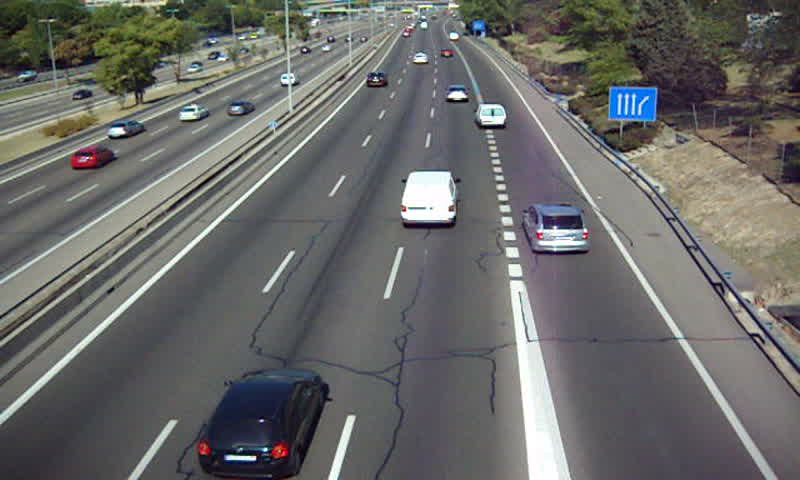car: (198, 369, 330, 477), (522, 205, 589, 253), (443, 85, 471, 104), (367, 71, 388, 88), (410, 50, 429, 64)
van: (402, 171, 455, 227), (476, 105, 506, 129)
